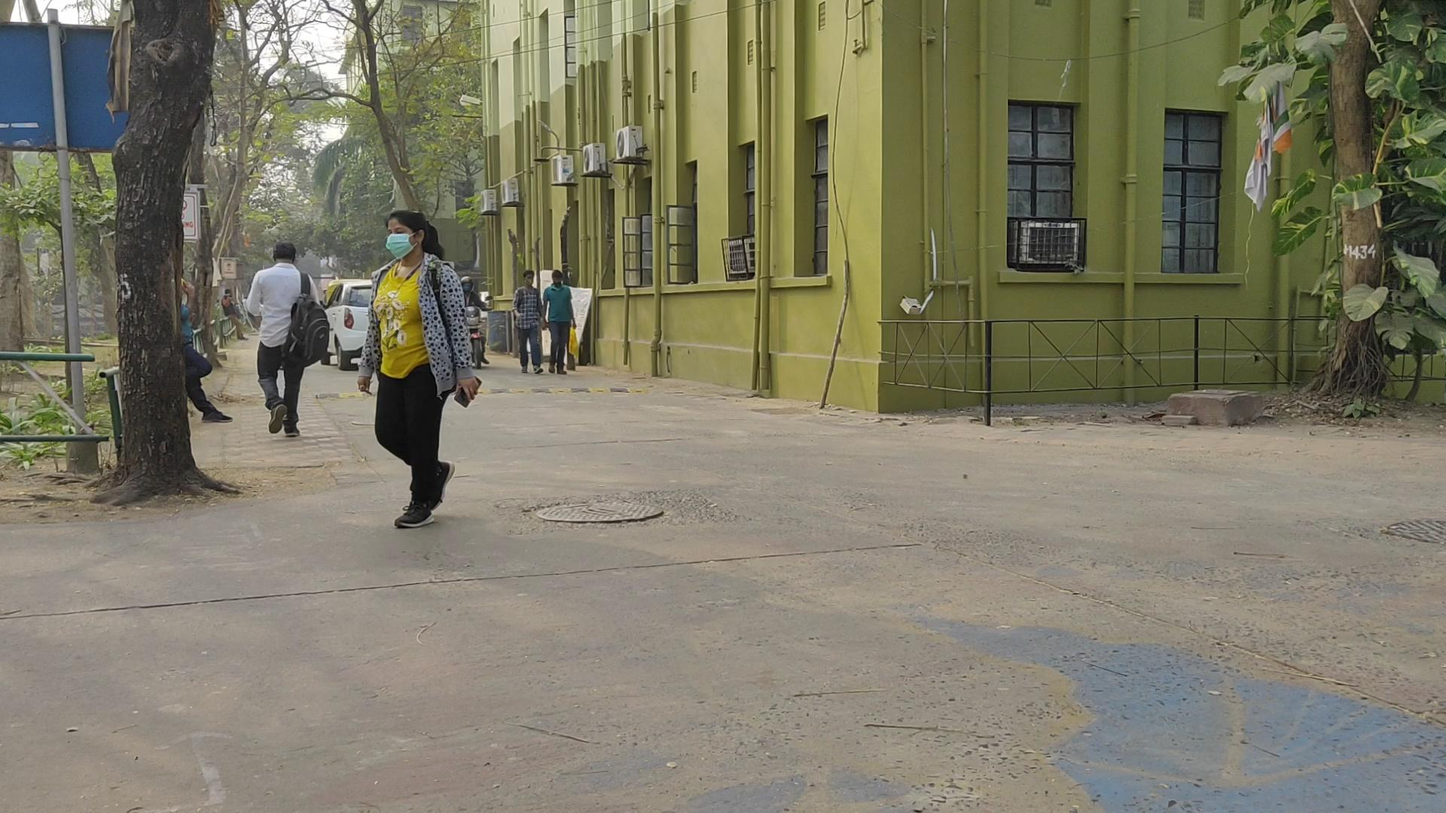bike: (458, 274, 493, 370)
car: (325, 278, 384, 371)
